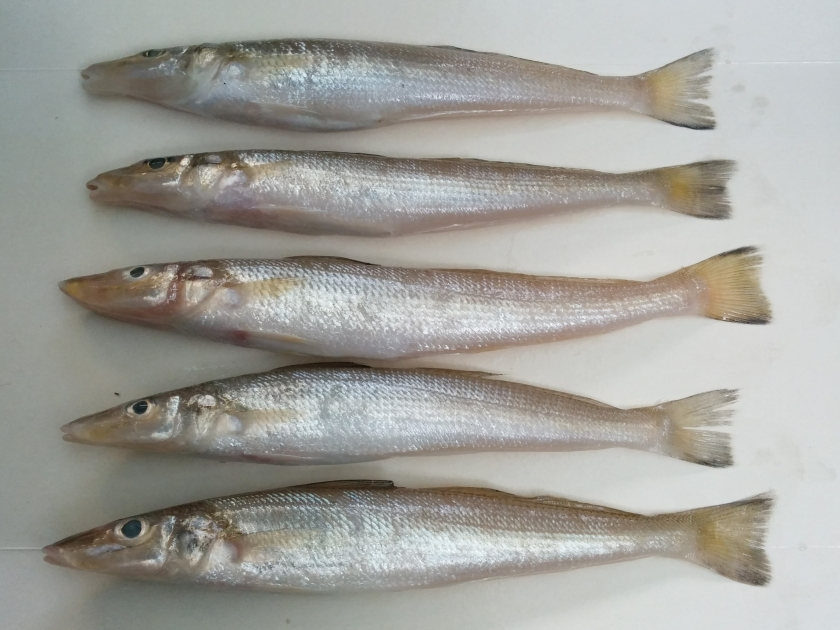kiss: (44, 472, 787, 601), (57, 242, 781, 369), (63, 357, 750, 481), (74, 21, 725, 147), (81, 128, 745, 250)
